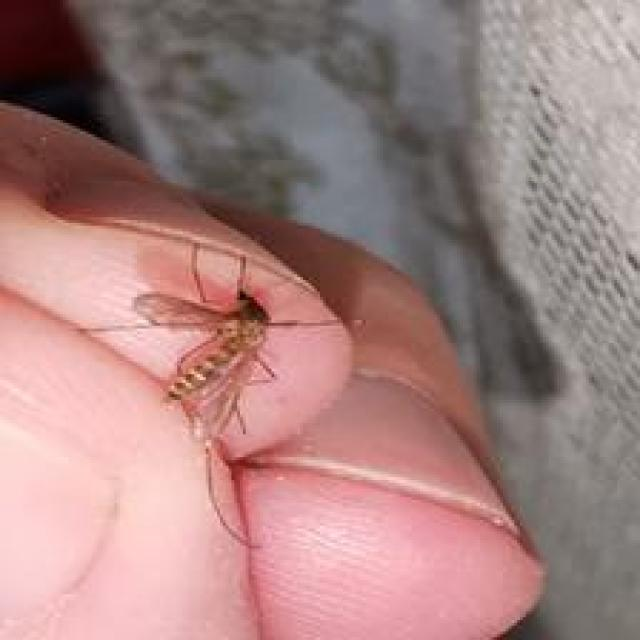Culex: (76, 242, 353, 547)
